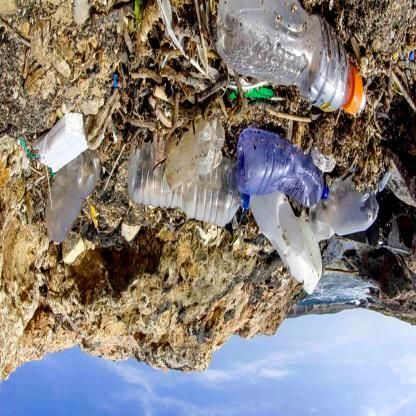Plastic: (216, 0, 364, 122), (127, 131, 252, 232), (244, 178, 322, 296), (237, 126, 330, 212), (43, 146, 98, 250), (318, 180, 379, 238)
